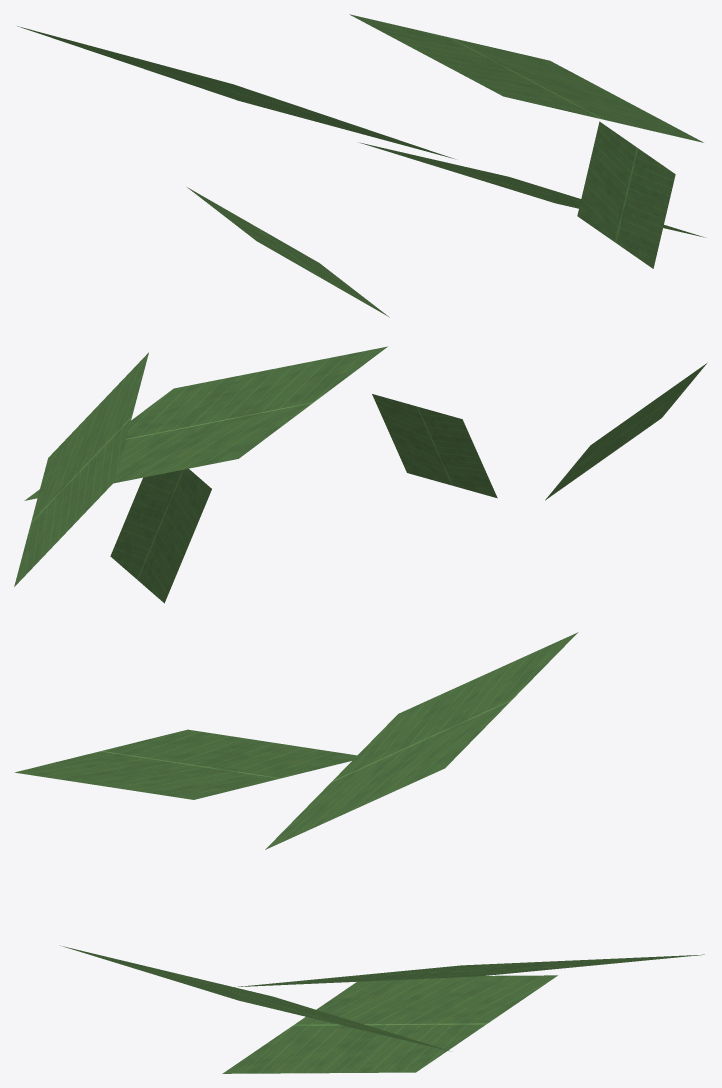
Rendered from en-009_broadleaf_bush_set__small.obj.
3 renders of one model, top to bottom at view 1: azimuth 30°, elevation 25°; view 2: azimuth 150°, elevation 25°; view 3: azimuth 270°, elevation 25°, orthographic. The views are drawn at different scales.
Visible parts, largest first — view 1: en-009_broadleaf_bush_set__small; view 2: en-009_broadleaf_bush_set__small; view 3: en-009_broadleaf_bush_set__small.
Boxes of the visible parts, box(x1,y1,x2,y2) form: en-009_broadleaf_bush_set__small: box(17, 14, 704, 317); en-009_broadleaf_bush_set__small: box(14, 346, 707, 603); en-009_broadleaf_bush_set__small: box(14, 632, 704, 1073).
Bounding box in the file's own units: 0.7745 × 0.3245 × 0.916.
Materials: 1 (1 with a texture image).
